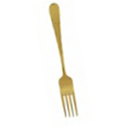Fork: (44, 4, 84, 128)
